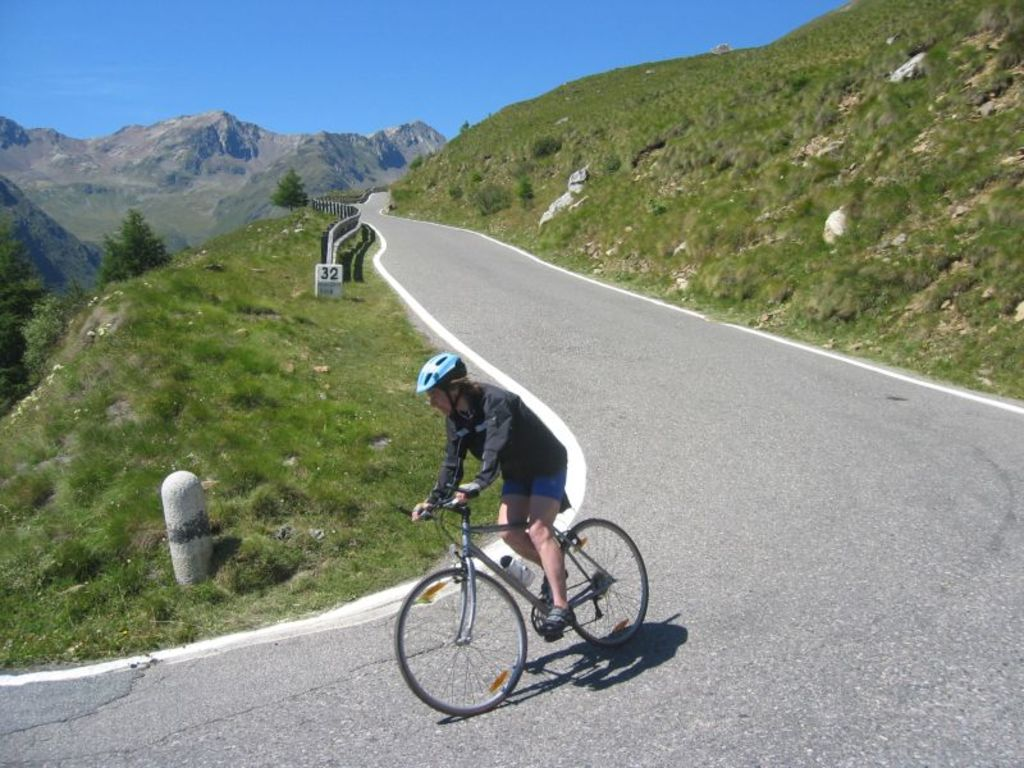Bicycle: (384, 459, 663, 718)
